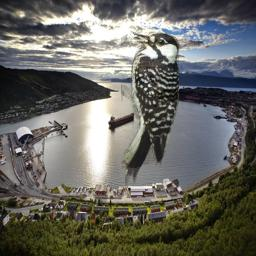Woodpecker: (121, 30, 179, 186)
